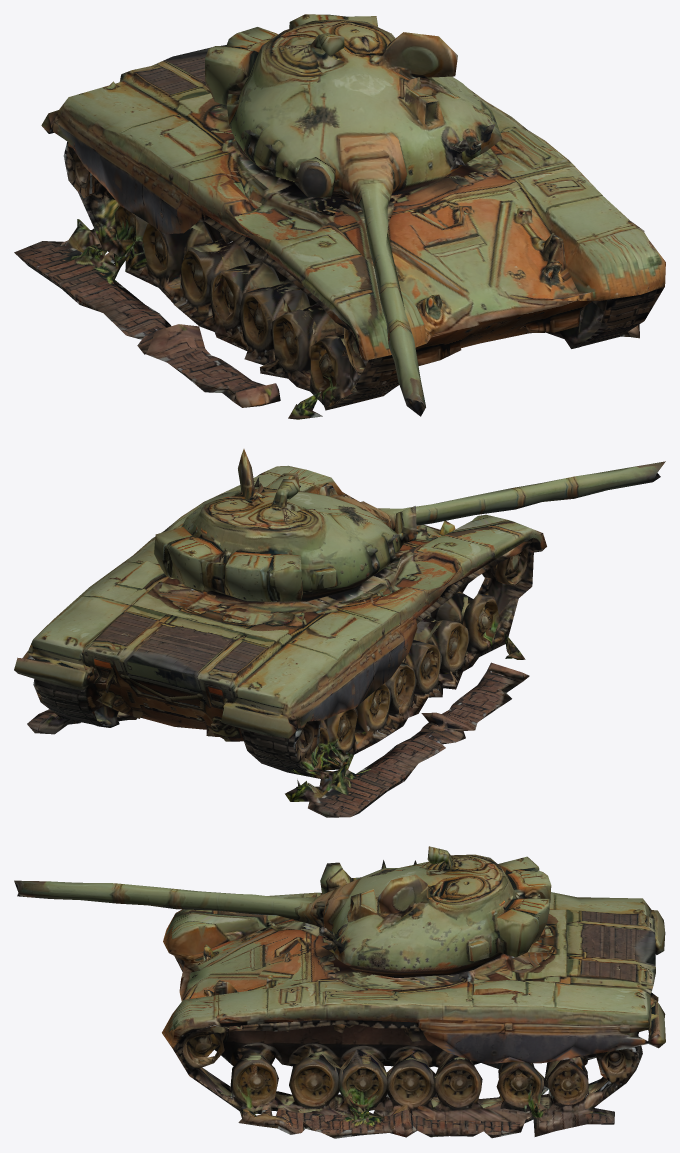
The model's file is Wreck_T72.fbx.
The picture shows the model from 3 angles, top to bottom: view 1: azimuth 30°, elevation 25°; view 2: azimuth 150°, elevation 25°; view 3: azimuth 270°, elevation 25°; orthographic projection. The views are drawn at different scales.
Visible parts, largest first — view 1: texture_mapping; view 2: texture_mapping; view 3: texture_mapping.
Boxes of the visible parts, <box> form: texture_mapping: <box>14,14,665,419</box>; texture_mapping: <box>14,449,665,817</box>; texture_mapping: <box>14,846,665,1138</box>.
Bounding box in the file's own units: 0.577 × 0.999 × 0.3584.
Materials: 1 (1 with a texture image).
